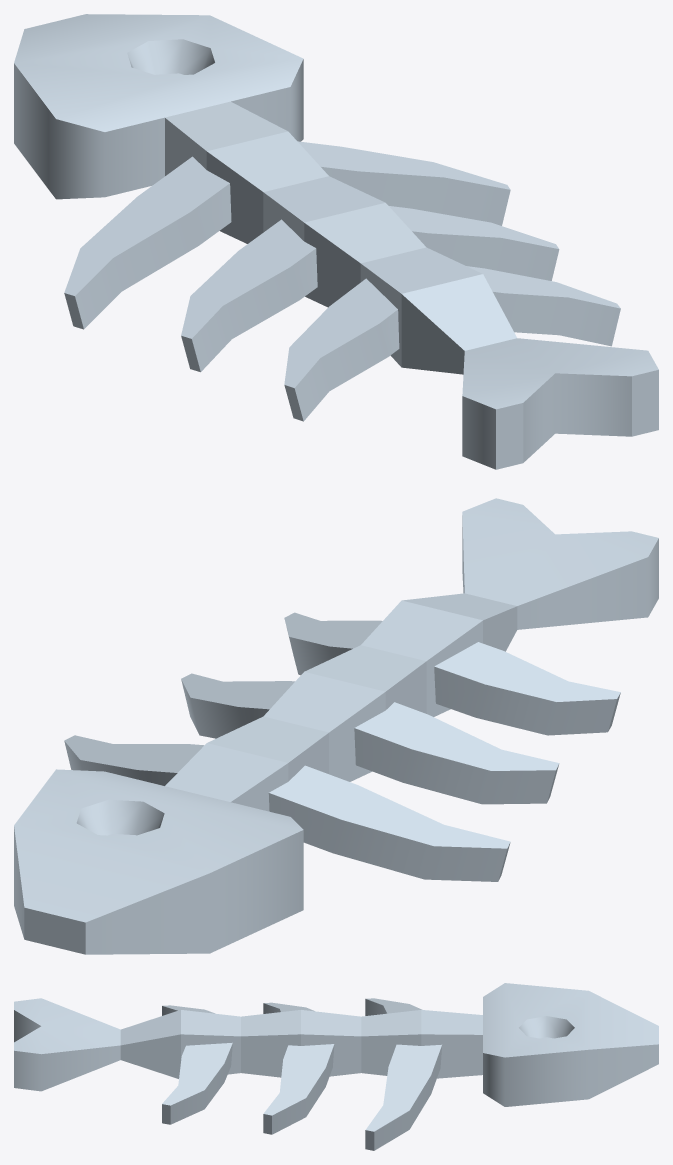
File: fishBones.GLB
3 renders of one model, top to bottom at view 1: azimuth 30°, elevation 25°; view 2: azimuth 150°, elevation 25°; view 3: azimuth 270°, elevation 25°, orthographic. The views are drawn at different scales.
Visible parts, largest first — view 1: fishBones; view 2: fishBones; view 3: fishBones.
Part boxes in pixels (left/top/right/bottom): fishBones: left=14, top=14, right=658, bottom=469; fishBones: left=14, top=498, right=658, bottom=954; fishBones: left=14, top=983, right=658, bottom=1150.
Size of the model in its own units: 0.3113 by 0.0726 by 0.6358.
